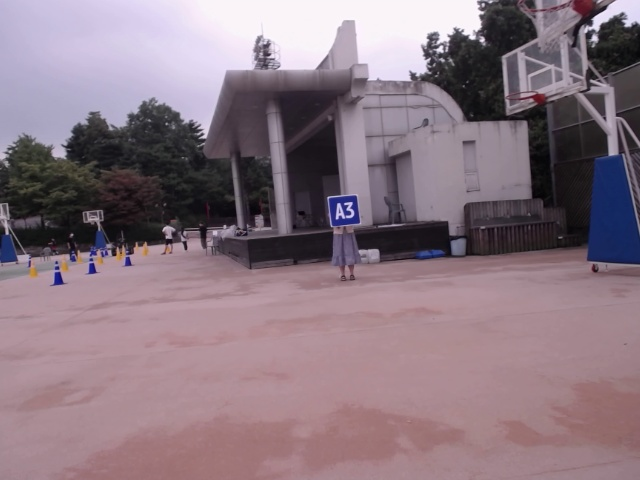delivery_a3: (328, 195, 361, 227)
